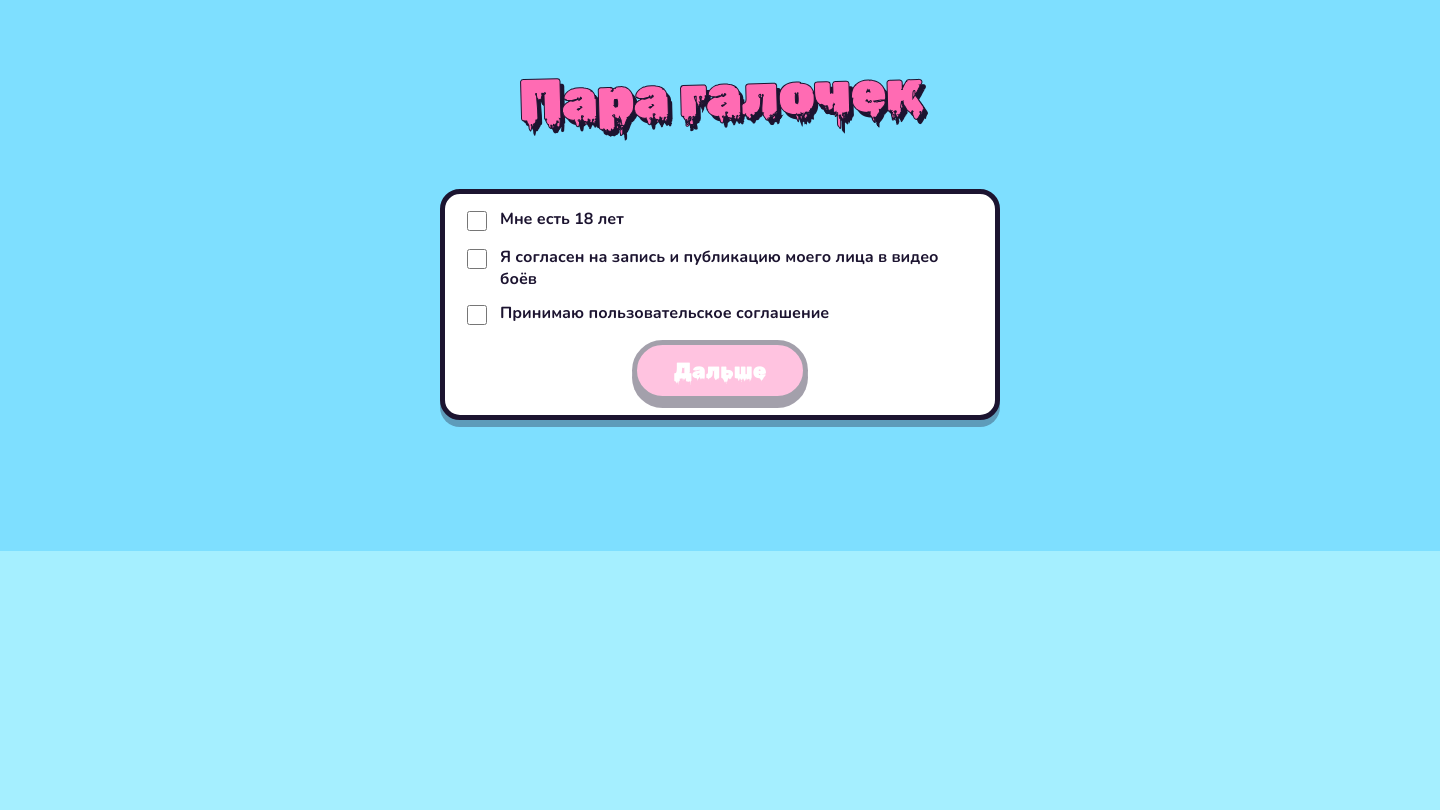
Consent — criterion 2: gating and submit payload › criterion-2: submit button is enabled only when all three checkboxes are checked
The width and height of the screenshot is (1440, 810).
What coordinates should you click on to do the following:
click the checkbox with test id "checkbox-adult"
I would click on:
 (477, 221)
Its box is [467,211,487,231].
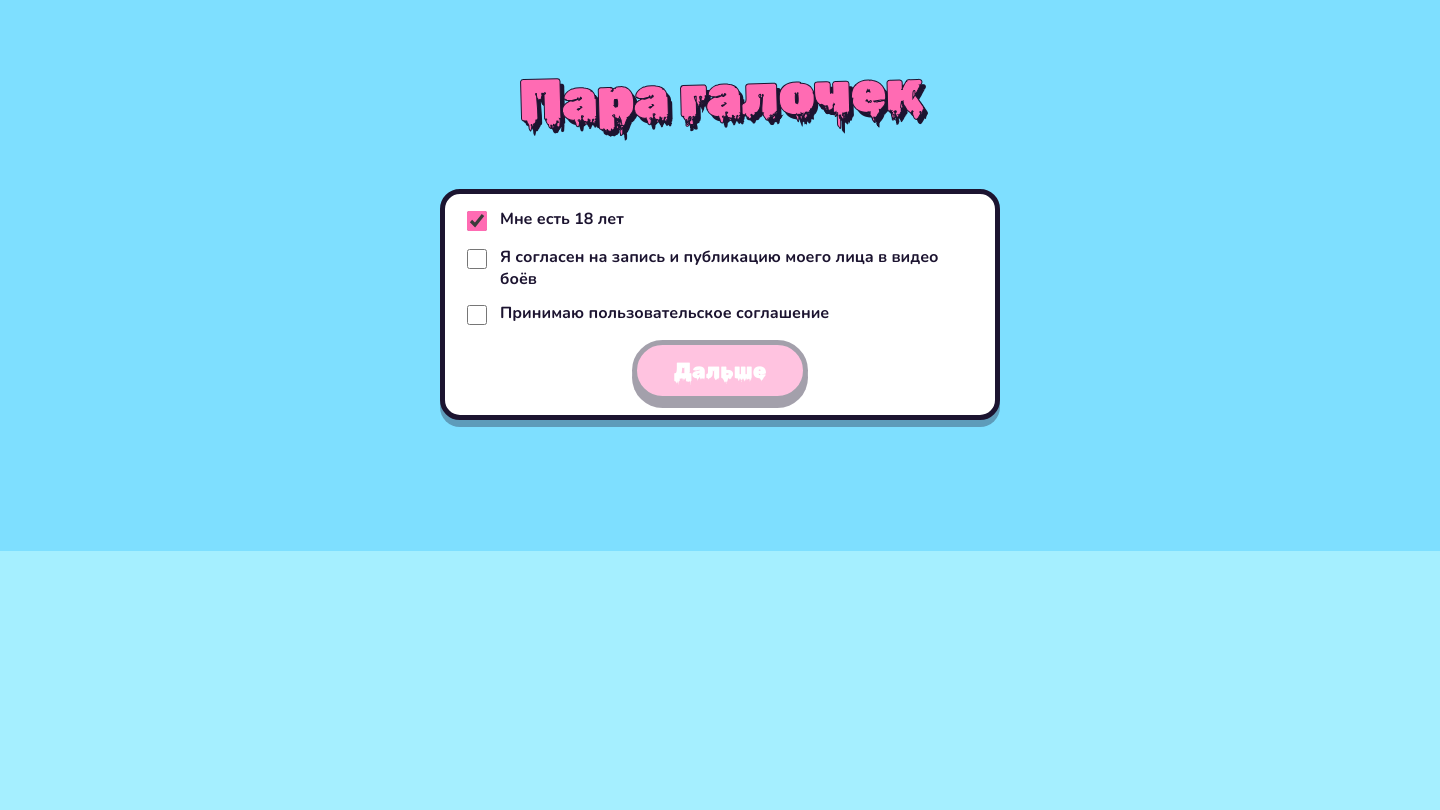
What coordinates should you click on to do the following:
click the checkbox with test id "checkbox-recording"
I would click on:
 (477, 259)
Its box is [467,249,487,269].
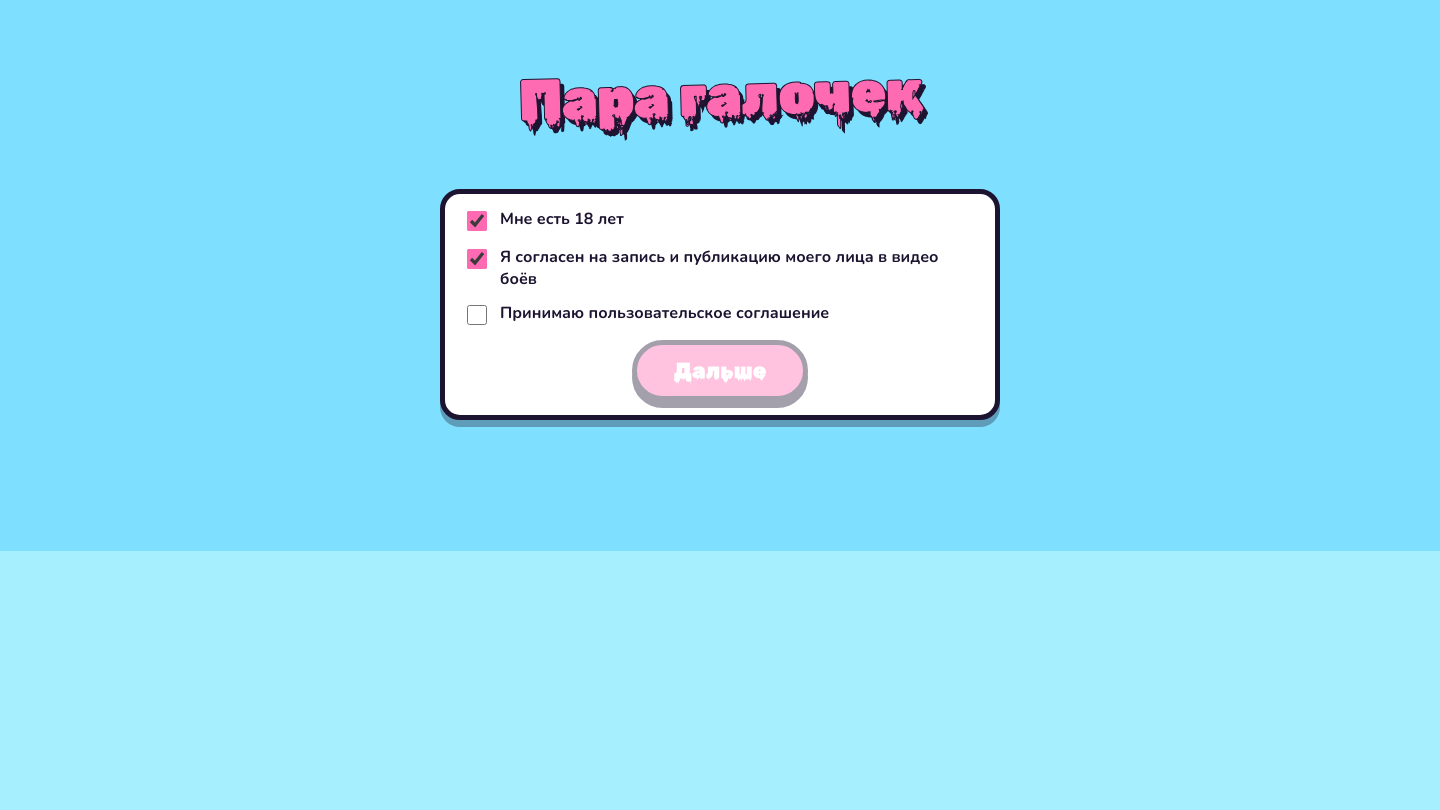
What coordinates should you click on to do the following:
click the checkbox with test id "checkbox-tos"
I would click on:
 (477, 315)
Its box is [467,305,487,325].
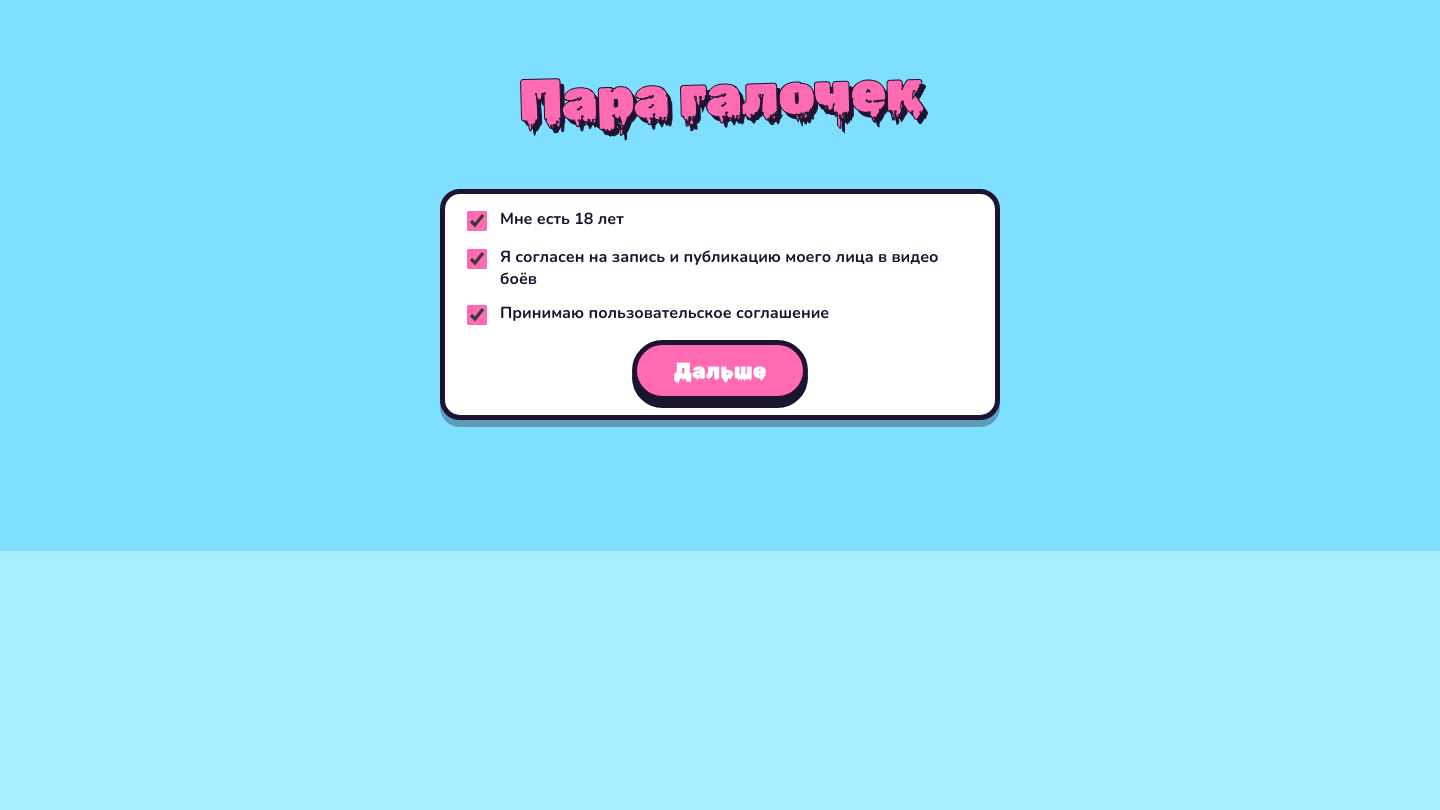
Expected: the button with test id "btn-continue" is enabled, [632,340,808,401]
